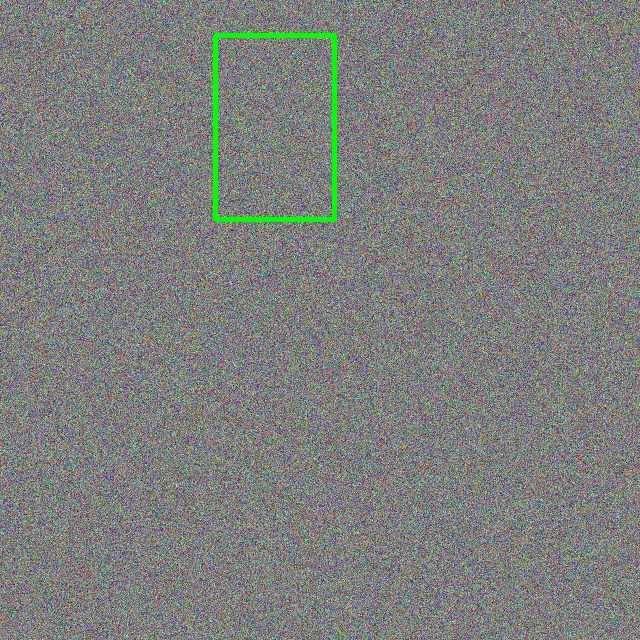base: (215, 35, 334, 219)
